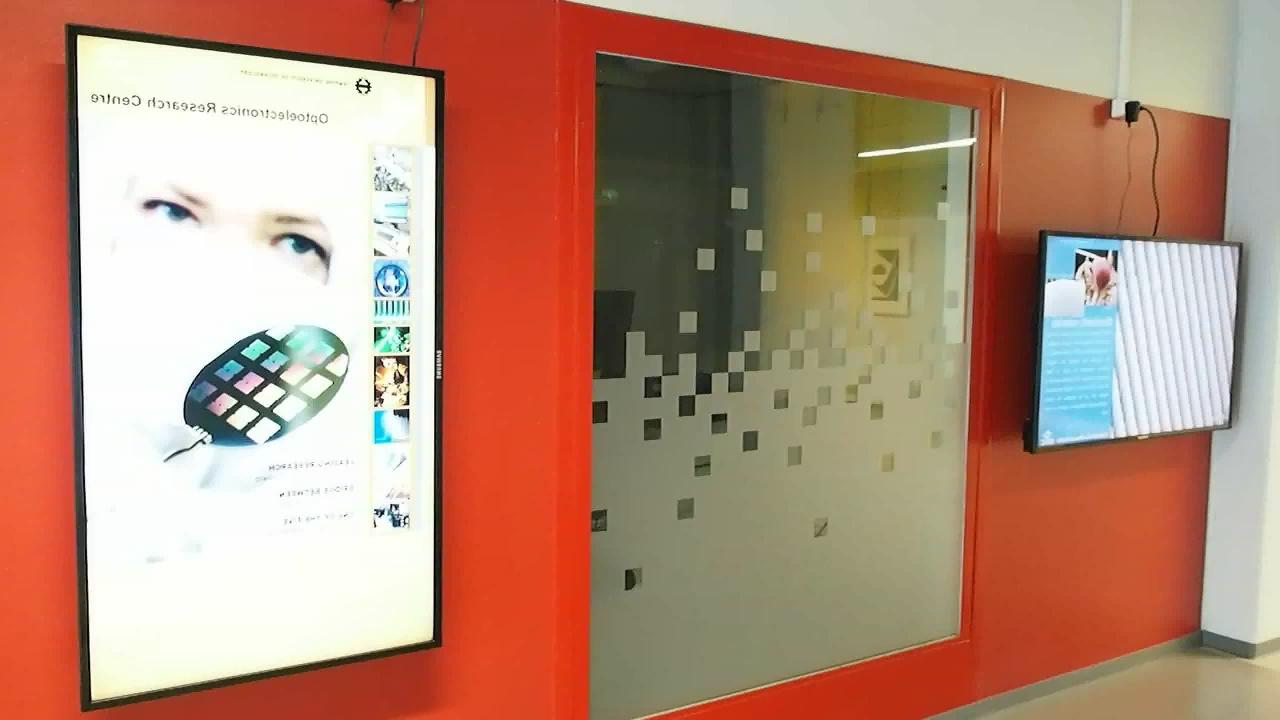screen: (60, 19, 449, 716), (1019, 228, 1256, 460)
